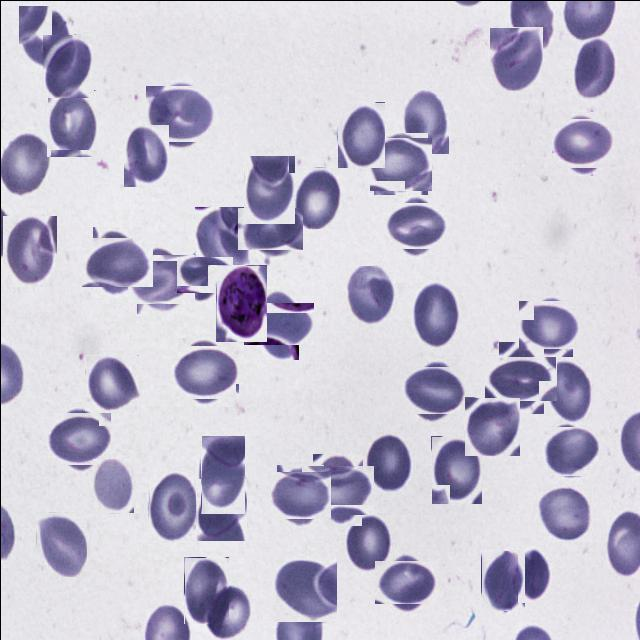difficult: (215, 264, 266, 341)
red blood cell: (272, 556, 336, 621), (148, 81, 212, 145), (2, 215, 56, 288), (306, 458, 368, 520), (86, 231, 148, 292), (18, 4, 74, 71), (173, 341, 234, 402), (194, 206, 249, 272), (242, 154, 294, 223), (49, 408, 108, 468), (200, 434, 244, 513), (430, 435, 481, 503), (147, 470, 195, 542), (488, 26, 542, 90), (491, 348, 550, 406), (410, 280, 460, 348), (132, 250, 190, 308), (371, 134, 429, 192), (46, 89, 96, 156), (41, 33, 93, 97), (35, 511, 86, 576), (463, 396, 519, 455), (346, 266, 398, 328), (336, 101, 384, 167), (554, 115, 610, 171), (405, 362, 461, 418), (520, 296, 576, 352), (536, 485, 592, 541), (250, 296, 306, 352), (196, 478, 246, 540), (84, 354, 138, 410), (183, 556, 228, 623), (344, 512, 394, 572), (402, 88, 448, 153), (292, 166, 340, 228), (364, 433, 412, 494), (572, 35, 617, 100), (388, 198, 442, 252), (272, 468, 326, 522), (242, 201, 296, 255), (544, 359, 591, 421), (122, 123, 168, 186), (543, 424, 596, 477), (380, 554, 432, 608), (480, 549, 524, 610), (203, 585, 250, 637), (180, 251, 228, 298), (92, 458, 133, 512), (517, 549, 550, 602)
